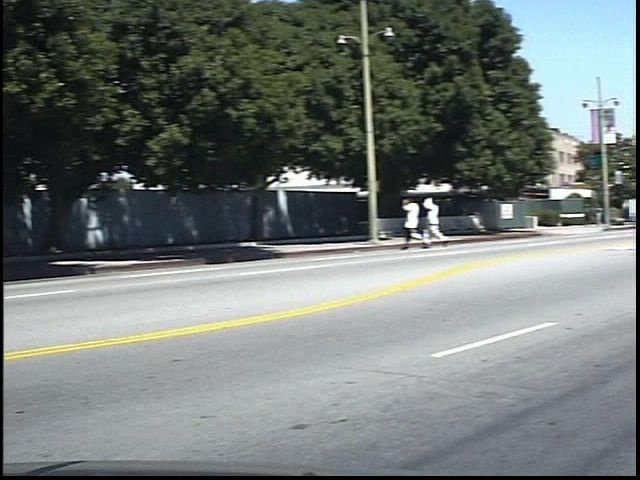person: (440, 193, 466, 253), (416, 192, 441, 254)
